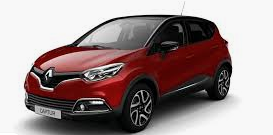car: (24, 12, 232, 134)
